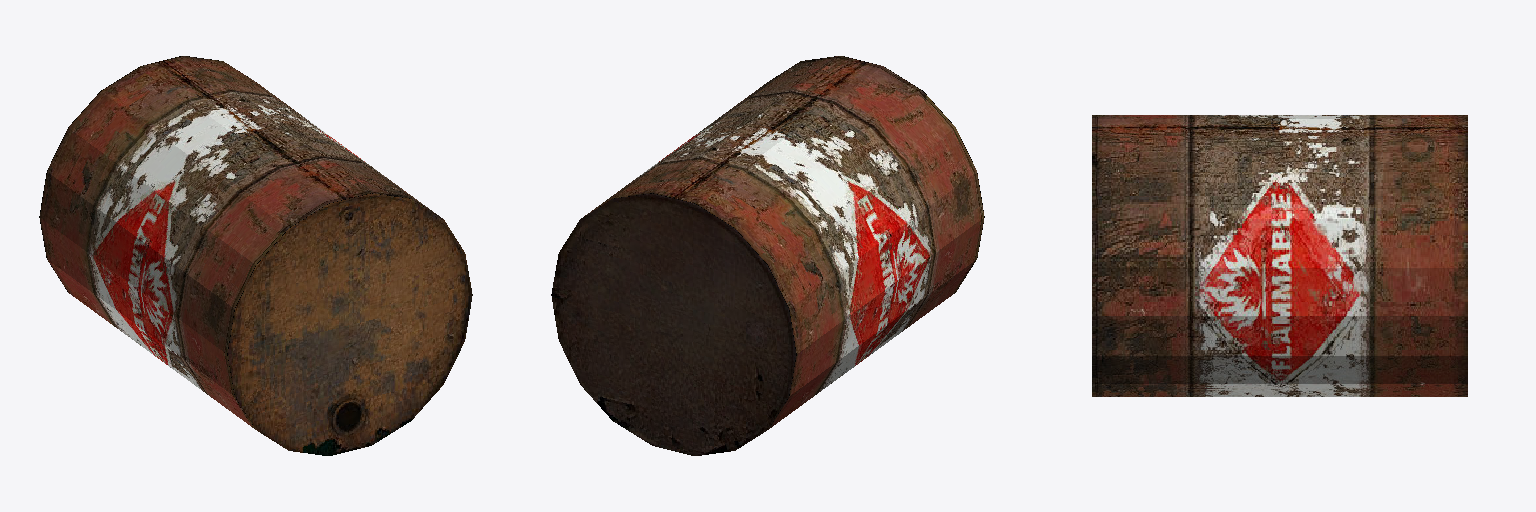
The picture shows the model from 3 angles: view 1: azimuth 30°, elevation 25°; view 2: azimuth 150°, elevation 25°; view 3: azimuth 270°, elevation 25°; orthographic projection.
Parts seen in each view (by area): view 1: Cylinder01; view 2: Cylinder01; view 3: Cylinder01.
Boxes of the visible parts, x1,y1,x2,y2 form: Cylinder01: [39, 56, 472, 455]; Cylinder01: [551, 56, 984, 455]; Cylinder01: [1092, 115, 1467, 396].
Size of the model in its own units: 1 by 0.9848 by 1.33.
Materials: 1 (1 with a texture image).